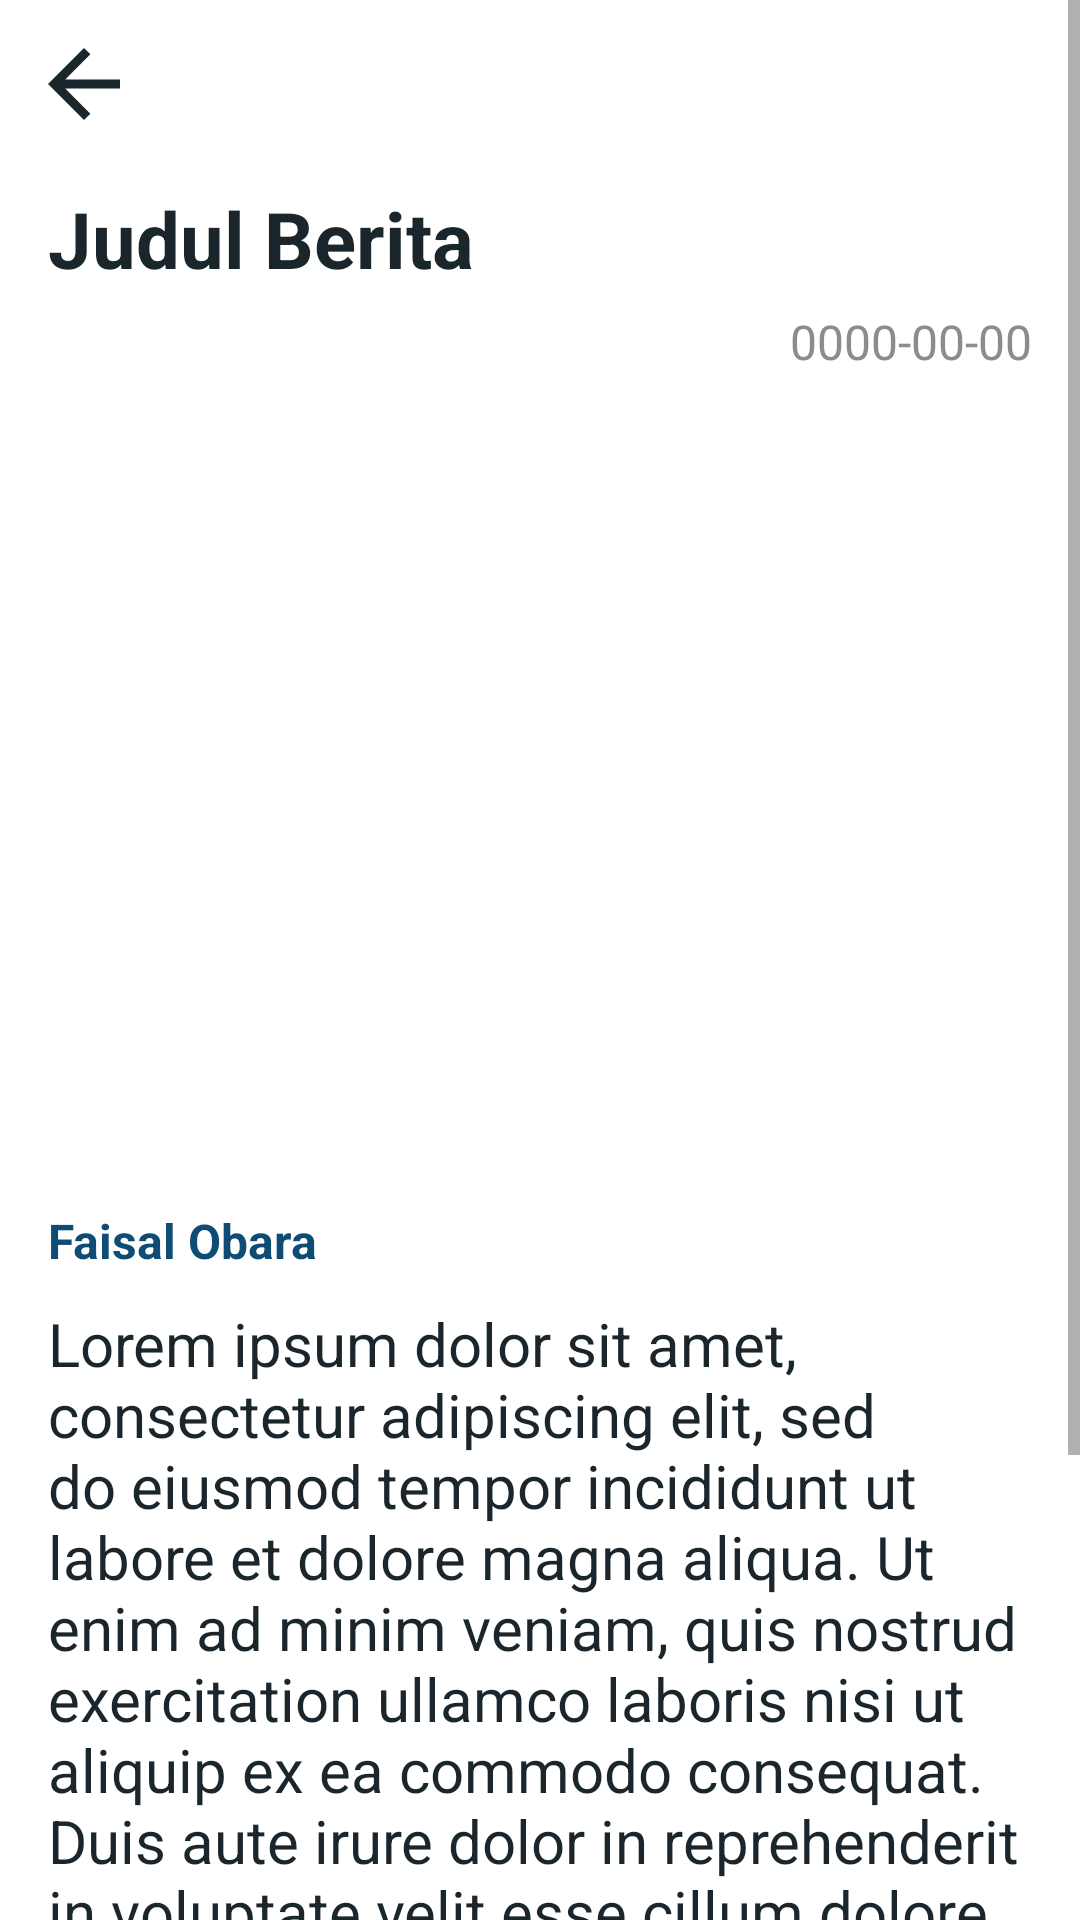

Locate icon controls on the screen. Image size 1080*1920, boxes as {"x1": x1, "y1": y1, "x2": x2, "y2": y2}.
arrow back: {"x1": 48, "y1": 48, "x2": 120, "y2": 120}
